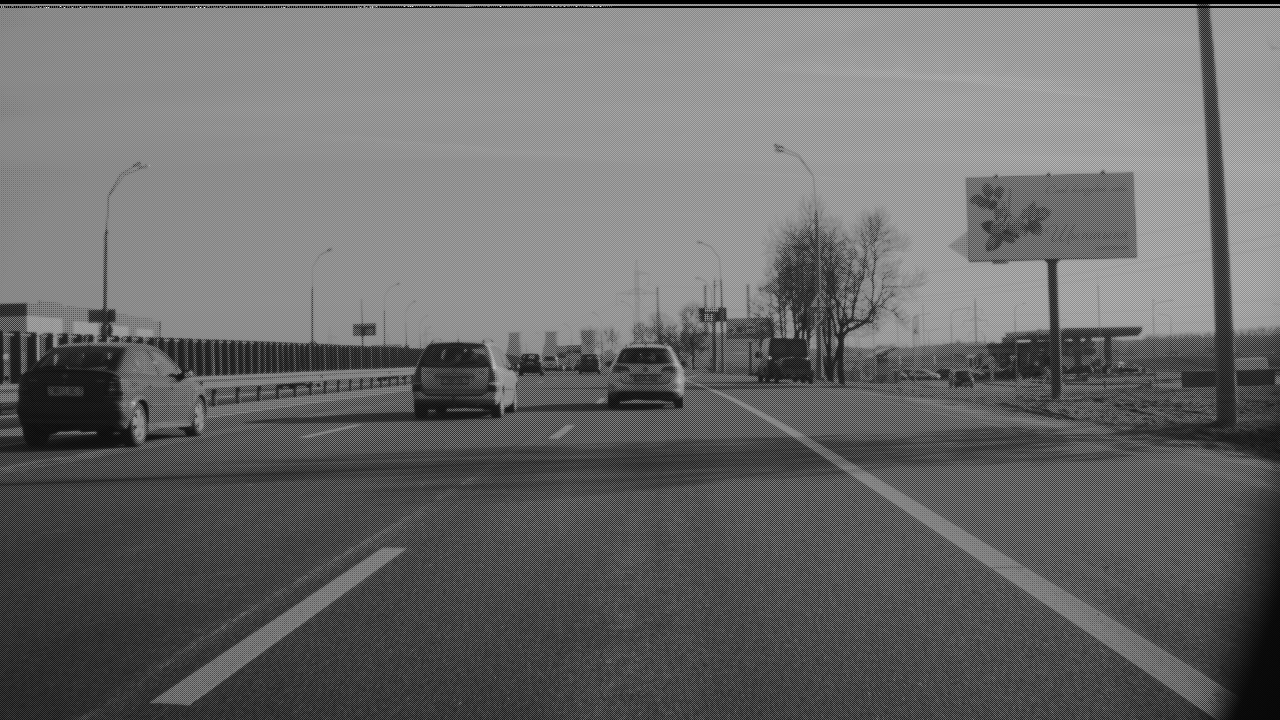pole: (1195, 1, 1236, 414), (811, 166, 823, 371), (1047, 253, 1063, 391), (103, 186, 112, 325), (718, 251, 724, 364), (310, 258, 315, 336)
